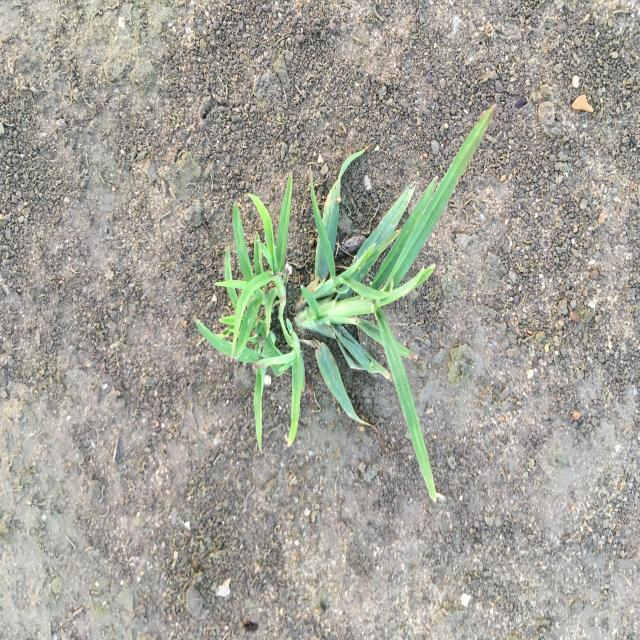Goosegrass: (195, 102, 498, 505)
